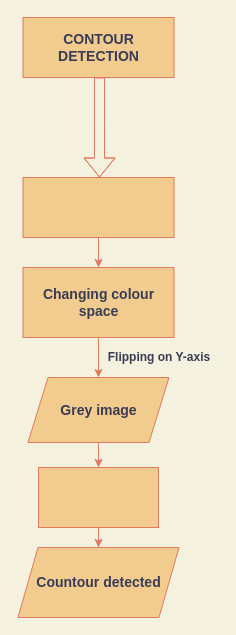
The diagram is 236 pixels wide and 635 high, and some of its shapes have lost their labels. The shapes that lost their labels are listed below. From the top down, each one's centre as x and y in pixels, then its label:
At pixel 98 207: "Image".
At pixel 98 497: "Convert into binary image (thresholding)".
